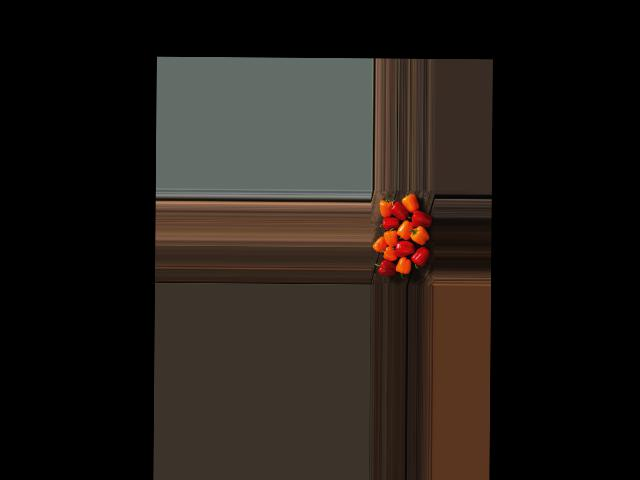bell_pepper: (401, 193, 422, 218)
